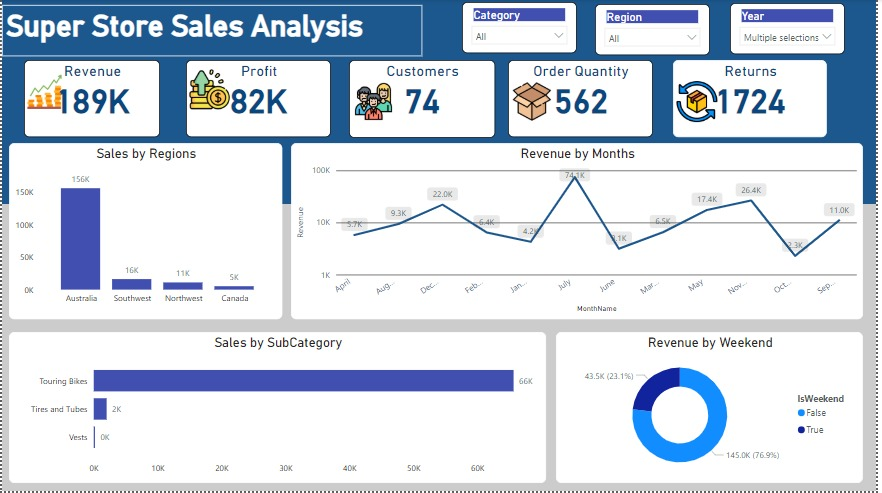

Layout of this report page (visuals, bound fields, positions):
{"tool":"powerbi","page":{"name":"Page 1","canvas":[1280,720],"ordinal":0},"visuals":[{"type":"textbox","box":[10,0,280,280],"z":0},{"type":"textbox","box":[0,0,1280.5,300],"z":1000},{"type":"textbox","box":[0,310,1280,300],"z":2000},{"type":"textbox","box":[0,300,1280.5,420],"z":3000},{"type":"card","title":"Revenue","fields":{"Values":["Sum(factsales.TotalPrice)"]},"box":[32.2,89.3,199,112.7],"z":4000},{"type":"card","title":"Profit","fields":{"Values":["Sum(factsales.Profit)"]},"box":[269.3,89.3,212.2,112.7],"z":5000},{"type":"card","title":"Order Quantity","fields":{"Values":["Sum(factsales.OrderQuantity)"]},"box":[740.5,89.3,212.2,112.7],"z":6000},{"type":"card","title":"Customers","fields":{"Values":["CountNonNull(dimcustomers.CustomerKey)"]},"box":[507.8,89.3,213.7,114.1],"z":7000},{"type":"card","title":"Returns","fields":{"Values":["CountNonNull(factreturns.ReturnID)"]},"box":[982,89.3,225.4,112.7],"z":8000},{"type":"textbox","box":[0,8.8,614.6,74.6],"z":9000},{"type":"clusteredColumnChart","title":"Sales by Regions","fields":{"Category":["dimterritory.Region"],"Y":["Sum(factsales.TotalPrice)"]},"box":[10.2,210.7,399.5,257.6],"z":10000},{"type":"lineChart","title":"Revenue by Months","fields":{"Y":["Sum(factsales.TotalPrice)"],"Category":["dimdate.MonthName"]},"box":[422.9,210.7,837.1,257.6],"z":11000},{"type":"donutChart","title":"Revenue by Weekend","fields":{"Y":["Sum(factsales.TotalPrice)"],"Category":["dimdate.IsWeekend"]},"box":[810.7,487.3,449.3,221],"z":12000},{"type":"barChart","title":"Sales by SubCategory","fields":{"Category":["dimproducts.SubcategoryName"],"Y":["Sum(factsales.TotalPrice)"]},"box":[10.2,487.3,785.9,221],"z":13000},{"type":"slicer","title":"Year","fields":{"Values":["dimproducts.CategoryName"]},"box":[673.2,4.4,168.3,74.6],"z":14000},{"type":"slicer","title":"Year","fields":{"Values":["dimterritory.Region"]},"box":[867.8,7.3,168.3,74.6],"z":15000},{"type":"slicer","title":"Year","fields":{"Values":["dimdate.Year"]},"box":[1065.4,5.9,168.3,74.6],"z":16000},{"type":"image","box":[32.2,103.9,60,64.4],"z":17000},{"type":"image","box":[269.3,93.7,68.8,76.1],"z":18000},{"type":"image","box":[507.8,117.1,71.7,65.9],"z":19000},{"type":"image","box":[740.5,117.1,70.2,65.9],"z":20000},{"type":"image","box":[982,114.1,70.2,71.7],"z":21000}]}

Visuals, with their boxes in screenshot pixels (x1, y1, x2, y2), scaled from the page's 1280x720 canvas onto the 882x493 screenshot:
textbox: bbox(7, 0, 200, 192)
textbox: bbox(0, 0, 881, 205)
textbox: bbox(0, 212, 881, 418)
textbox: bbox(0, 205, 881, 492)
"Revenue" card: bbox(22, 61, 159, 138)
"Profit" card: bbox(186, 61, 332, 138)
"Order Quantity" card: bbox(510, 61, 656, 138)
"Customers" card: bbox(350, 61, 497, 139)
"Returns" card: bbox(677, 61, 832, 138)
textbox: bbox(0, 6, 423, 57)
"Sales by Regions" clusteredColumnChart: bbox(7, 144, 282, 321)
"Revenue by Months" lineChart: bbox(291, 144, 868, 321)
"Revenue by Weekend" donutChart: bbox(559, 334, 868, 485)
"Sales by SubCategory" barChart: bbox(7, 334, 549, 485)
"Year" slicer: bbox(464, 3, 580, 54)
"Year" slicer: bbox(598, 5, 714, 56)
"Year" slicer: bbox(734, 4, 850, 55)
image: bbox(22, 71, 64, 115)
image: bbox(186, 64, 233, 116)
image: bbox(350, 80, 399, 125)
image: bbox(510, 80, 559, 125)
image: bbox(677, 78, 725, 127)
